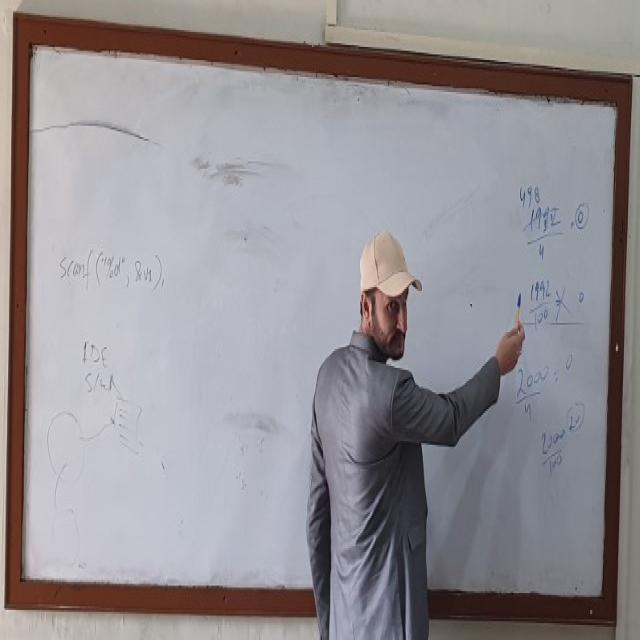Instructor: (310, 202, 443, 640)
White-board: (12, 26, 623, 616)
